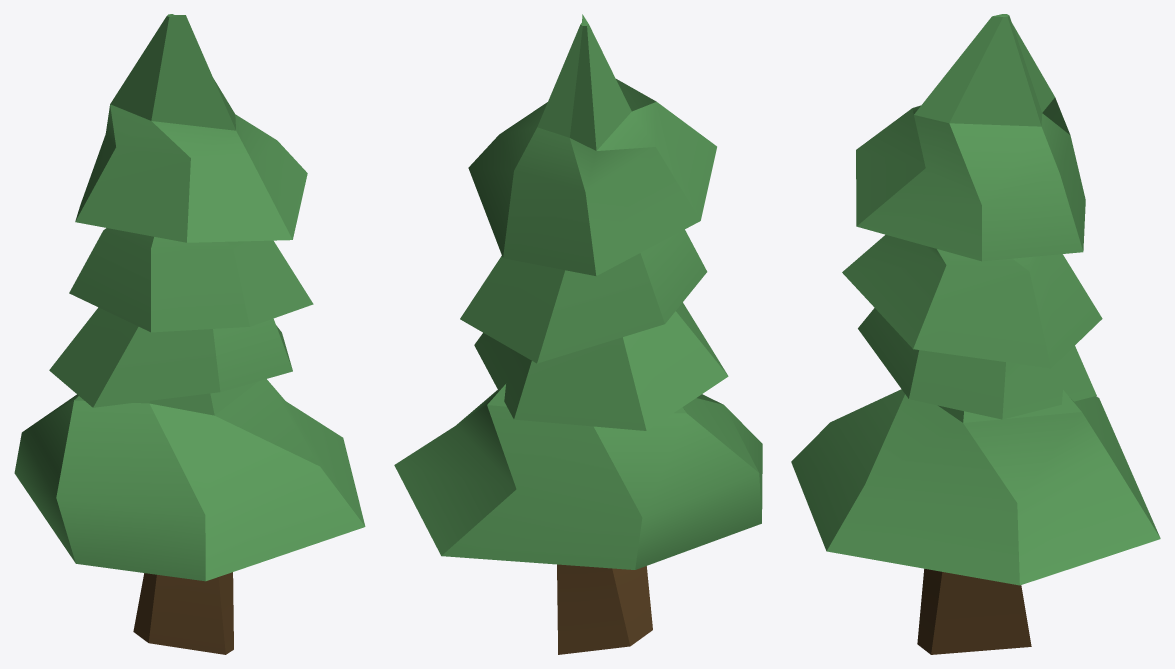
The model's file is ForestTree2.fbx.
3 views of the same model, side by side, from view 1: azimuth 30°, elevation 25°; view 2: azimuth 150°, elevation 25°; view 3: azimuth 270°, elevation 25° (orthographic).
Parts seen in each view (by area): view 1: pCylinder31, pCylinder32, pCylinder34, pCylinder30, pCylinder33; view 2: pCylinder31, pCylinder32, pCylinder30, pCylinder34, pCylinder33; view 3: pCylinder31, pCylinder32, pCylinder34, pCylinder30, pCylinder33.
Part boxes in pixels (x1=…): pCylinder31: x1=14, y1=379, x2=365, y2=581; pCylinder32: x1=75, y1=14, x2=307, y2=242; pCylinder34: x1=69, y1=228, x2=313, y2=332; pCylinder30: x1=49, y1=307, x2=292, y2=407; pCylinder33: x1=133, y1=572, x2=233, y2=654; pCylinder31: x1=394, y1=384, x2=762, y2=569; pCylinder32: x1=468, y1=14, x2=716, y2=275; pCylinder30: x1=474, y1=302, x2=728, y2=430; pCylinder34: x1=460, y1=229, x2=707, y2=363; pCylinder33: x1=557, y1=564, x2=652, y2=654; pCylinder31: x1=791, y1=389, x2=1160, y2=585; pCylinder32: x1=856, y1=14, x2=1085, y2=261; pCylinder34: x1=842, y1=234, x2=1102, y2=368; pCylinder30: x1=858, y1=308, x2=1096, y2=419; pCylinder33: x1=917, y1=568, x2=1031, y2=654.
Size of the model in its own units: 4.09 by 7.47 by 3.97.
